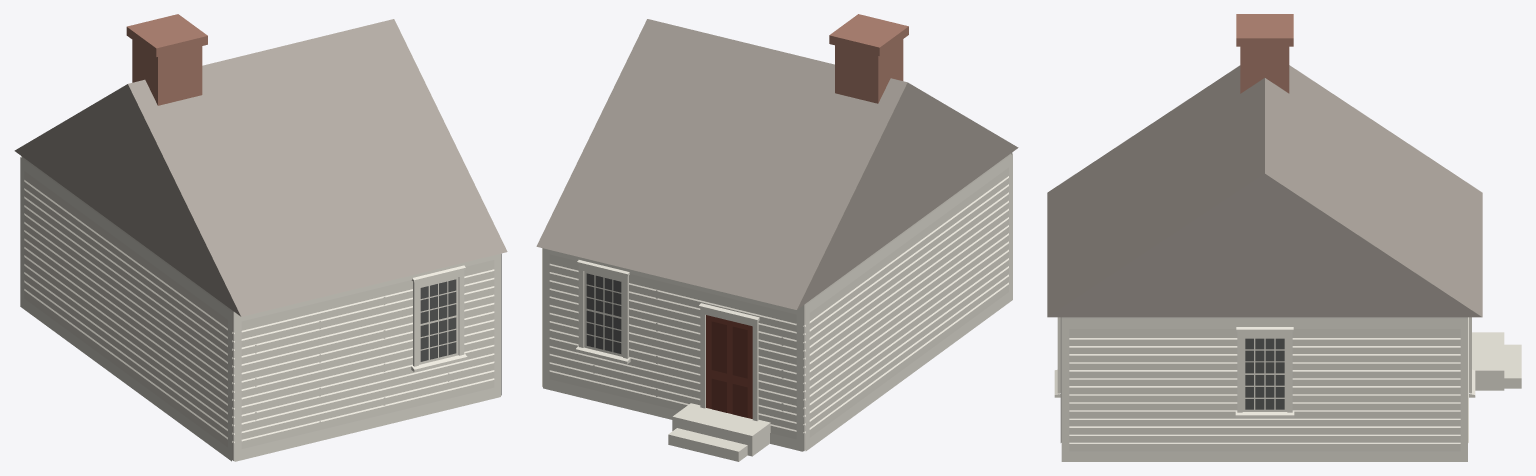
Rendered from recon_1835_blk_washington_dearborn_d3_07__inferred_1835.glb.
3 views of the same model, side by side, from view 1: azimuth 30°, elevation 25°; view 2: azimuth 150°, elevation 25°; view 3: azimuth 270°, elevation 25° (orthographic). The views are drawn at different scales.
Parts seen in each view (by area): view 1: recon_1835_blk_washington_dearborn_d3_07__inferred_1835; view 2: recon_1835_blk_washington_dearborn_d3_07__inferred_1835; view 3: recon_1835_blk_washington_dearborn_d3_07__inferred_1835.
Boxes of the visible parts, left/top/right/bottom form: recon_1835_blk_washington_dearborn_d3_07__inferred_1835: left=14, top=14, right=507, bottom=461; recon_1835_blk_washington_dearborn_d3_07__inferred_1835: left=536, top=14, right=1018, bottom=461; recon_1835_blk_washington_dearborn_d3_07__inferred_1835: left=1047, top=14, right=1521, bottom=461.
Bounding box in the file's own units: 5.21 × 6.22 × 8.13.
